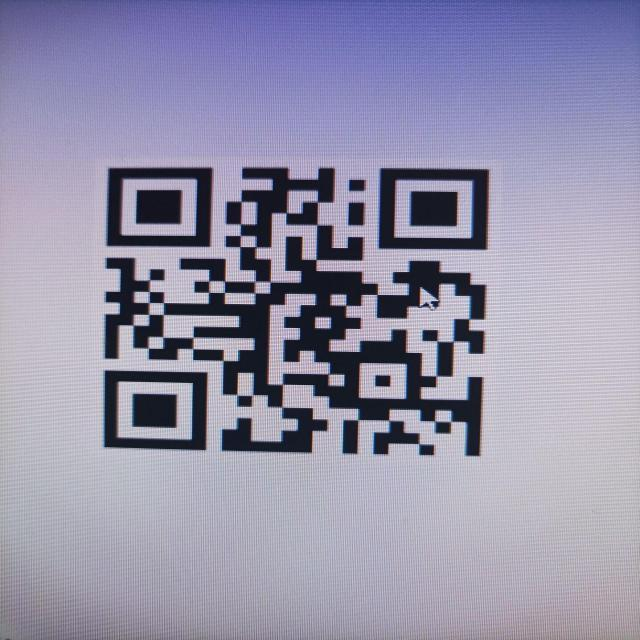qr_code: (104, 168, 489, 458)
